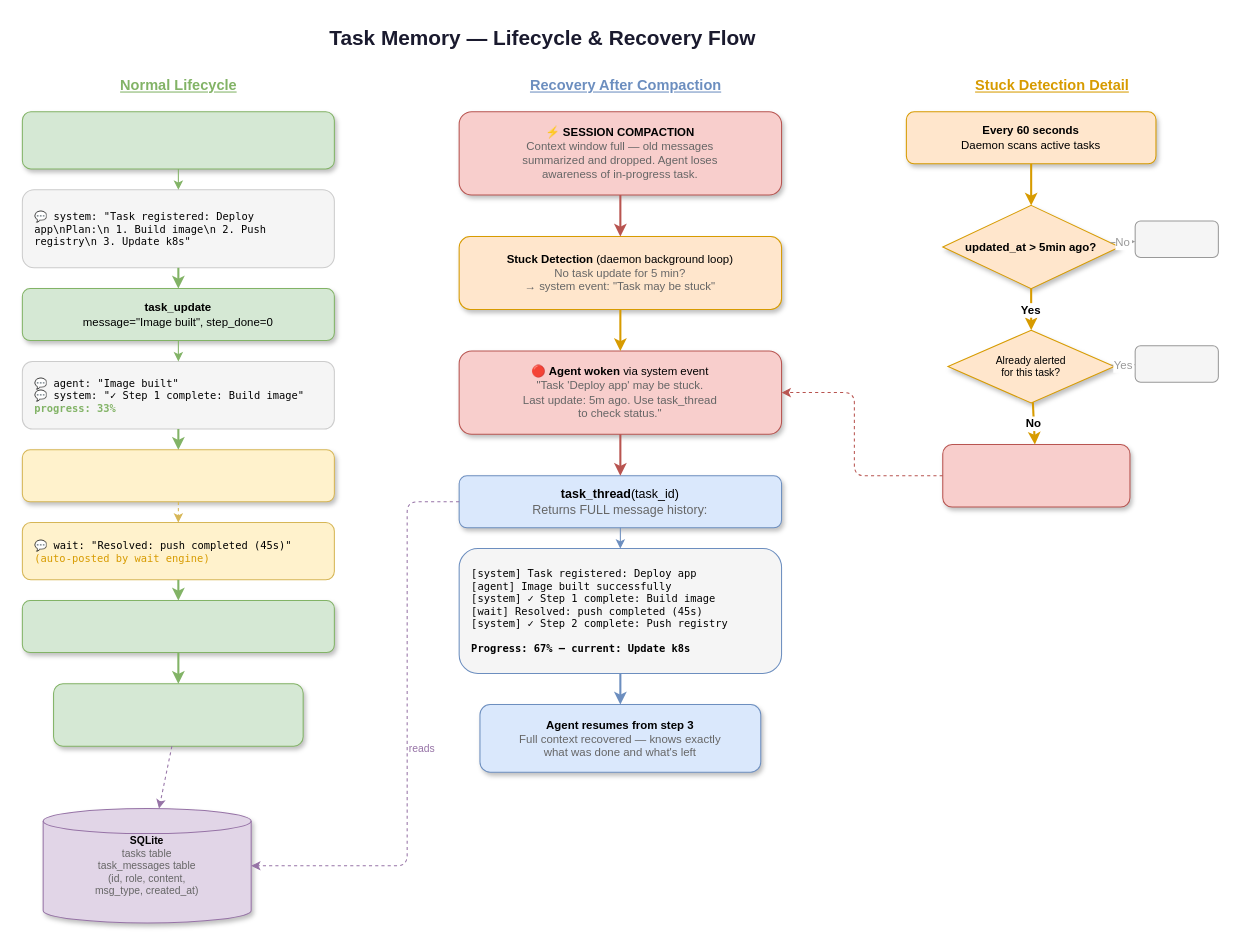
Some shapes in this 1237 by 948 pixel diagram are drawn without their labels. The centre of each missing label's shape, as x and y in pixels:
OK — skip: (1176,238)
Post stuck message to task thread + system event wake: (1037,476)
Skip (dedup): (1176,363)
smart_wait wake_when="push completed": (179,477)
task_register name, plan=["Step1","Step2",...]: (179,141)
task_update step_done=1, step_done=2, status=completed: (179,627)
✅ DONE Task thread persists in SQLite for future reference: (178,716)
